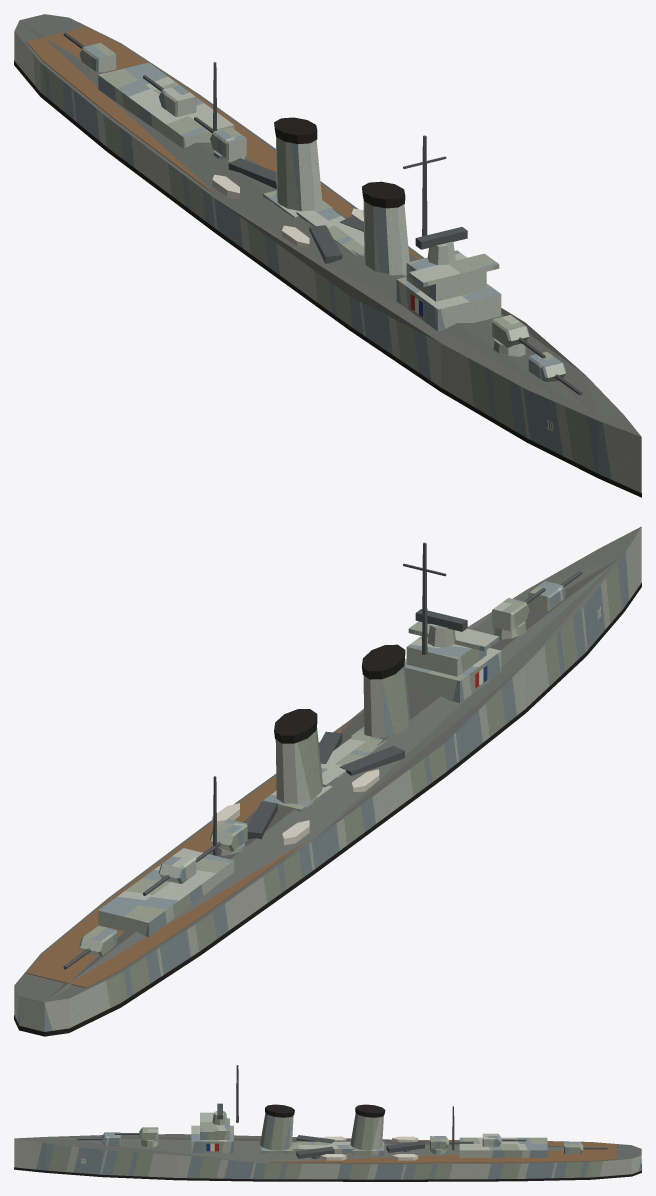
The model's file is escort.glb.
3 renders of one model, top to bottom at view 1: azimuth 30°, elevation 25°; view 2: azimuth 150°, elevation 25°; view 3: azimuth 270°, elevation 25°, orthographic. The views are drawn at different scales.
Parts seen in each view (by area): view 1: coque, pont_bois, roof_arriere, ligne_flottaison, cheminee_2, passerelle_1, cheminee_1, passerelle_2, passerelle_ailes, tubes_lance_torpilles (×2), roof_milieu, coiffe_cheminee_2 (+7 smaller); view 2: coque, pont_bois, roof_arriere, ligne_flottaison, cheminee_2, cheminee_1, passerelle_1, passerelle_2, tubes_lance_torpilles (×2), roof_milieu, coiffe_cheminee_1, coiffe_cheminee_2 (+6 smaller); view 3: coque, pont_bois, ligne_flottaison, roof_arriere, cheminee_1, cheminee_2, tubes_lance_torpilles (×3), passerelle_1, roof_milieu, coiffe_cheminee_2, passerelle_2, coiffe_cheminee_1 (+7 smaller).
Boxes of the visible parts, bbox=[...] form: coque: bbox=[14, 14, 641, 492]; pont_bois: bbox=[26, 27, 422, 259]; roof_arriere: bbox=[98, 62, 234, 148]; ligne_flottaison: bbox=[14, 60, 641, 497]; cheminee_2: bbox=[275, 135, 322, 211]; passerelle_1: bbox=[396, 277, 501, 331]; cheminee_1: bbox=[363, 201, 409, 275]; passerelle_2: bbox=[406, 250, 486, 301]; passerelle_ailes: bbox=[408, 253, 499, 286]; tubes_lance_torpilles (×2): bbox=[228, 158, 342, 263]; roof_milieu: bbox=[296, 205, 364, 256]; coiffe_cheminee_2: bbox=[274, 117, 317, 144]; coque: bbox=[14, 526, 641, 1031]; pont_bois: bbox=[26, 719, 354, 988]; roof_arriere: bbox=[98, 848, 234, 937]; ligne_flottaison: bbox=[14, 583, 641, 1036]; cheminee_2: bbox=[275, 727, 322, 803]; cheminee_1: bbox=[363, 663, 410, 738]; passerelle_1: bbox=[404, 648, 501, 702]; passerelle_2: bbox=[406, 636, 486, 676]; tubes_lance_torpilles (×2): bbox=[247, 745, 404, 839]; roof_milieu: bbox=[320, 733, 386, 786]; coiffe_cheminee_1: bbox=[361, 644, 405, 679]; coiffe_cheminee_2: bbox=[274, 709, 317, 743]; coque: bbox=[14, 1134, 641, 1179]; pont_bois: bbox=[268, 1140, 616, 1163]; ligne_flottaison: bbox=[14, 1164, 641, 1181]; roof_arriere: bbox=[459, 1137, 547, 1157]; cheminee_1: bbox=[260, 1113, 293, 1150]; cheminee_2: bbox=[350, 1113, 383, 1150]; tubes_lance_torpilles (×3): bbox=[296, 1135, 424, 1158]; passerelle_1: bbox=[191, 1125, 233, 1152]; roof_milieu: bbox=[291, 1141, 354, 1153]; coiffe_cheminee_2: bbox=[355, 1104, 385, 1117]; passerelle_2: bbox=[200, 1118, 229, 1139]; coiffe_cheminee_1: bbox=[265, 1104, 294, 1117].
Bounding box in the file's own units: 0.4628 × 0.9165 × 5.01.
Materials: 8 (3 with a texture image).
